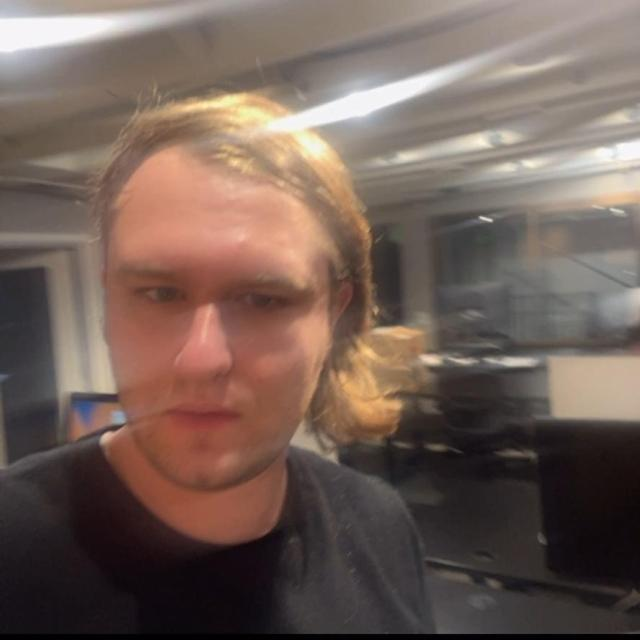no-helmet: (59, 50, 424, 552)
